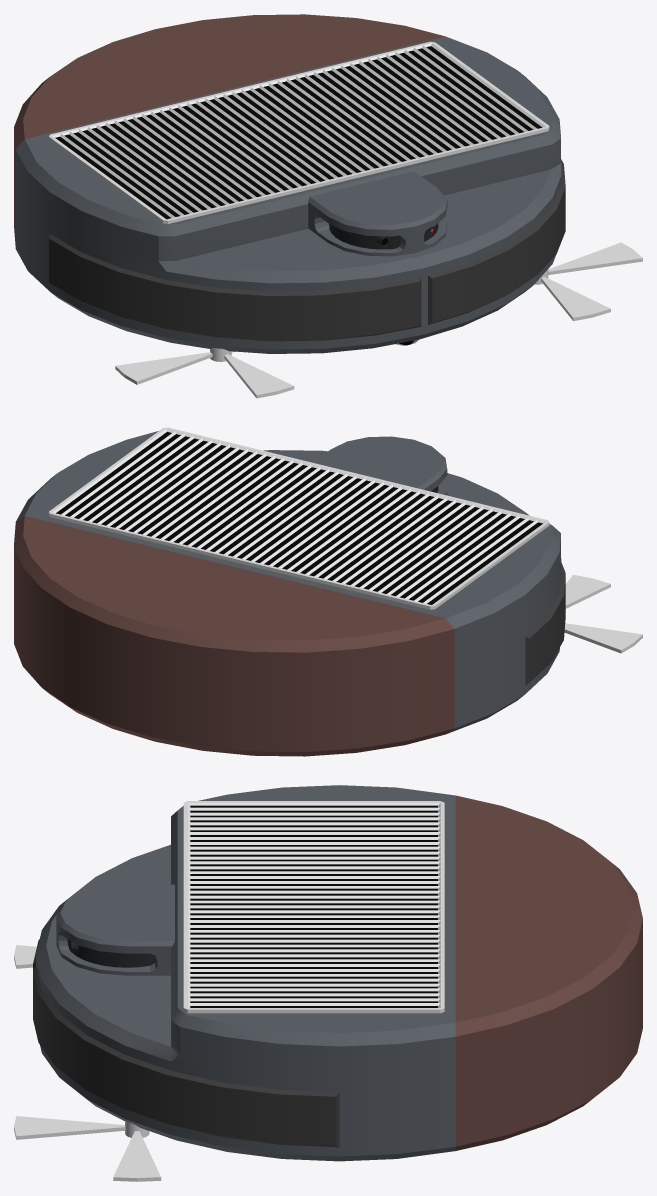
The model's file is RobotVacuumCleanerModel.fbx.
The picture shows the model from 3 angles, top to bottom: view 1: azimuth 30°, elevation 25°; view 2: azimuth 150°, elevation 25°; view 3: azimuth 270°, elevation 25°; orthographic projection. The views are drawn at different scales.
Visible parts, largest first — view 1: Body.1, Air-Filter.1, Body.002, Container.1, Body.2, Brush.2, Brush.1, Lidar.1; view 2: Container.1, Air-Filter.1, Body.1, Body.2, Body.002, Brush.2; view 3: Air-Filter.1, Container.1, Body.1, Body.002, Body.2, Brush.1, Lidar.1.
Boxes of the visible parts, x1,y1,x2,y2 form: Body.1: [15, 36, 561, 353]; Air-Filter.1: [48, 41, 549, 223]; Body.002: [49, 159, 565, 341]; Container.1: [14, 14, 445, 245]; Body.2: [308, 171, 447, 256]; Brush.2: [115, 348, 294, 398]; Brush.1: [534, 242, 642, 321]; Lidar.1: [329, 223, 438, 249]; Container.1: [14, 516, 454, 756]; Air-Filter.1: [48, 427, 549, 609]; Body.1: [16, 431, 561, 733]; Body.2: [313, 436, 447, 495]; Body.002: [525, 562, 565, 685]; Brush.2: [564, 574, 642, 653]; Air-Filter.1: [183, 801, 444, 1013]; Container.1: [455, 795, 642, 1150]; Body.1: [36, 785, 455, 1161]; Body.002: [33, 939, 339, 1147]; Body.2: [56, 884, 174, 975]; Brush.1: [14, 1116, 161, 1181]; Lidar.1: [67, 939, 156, 967].
Bounding box in the file's own units: 32.18 × 8.37 × 31.09.
